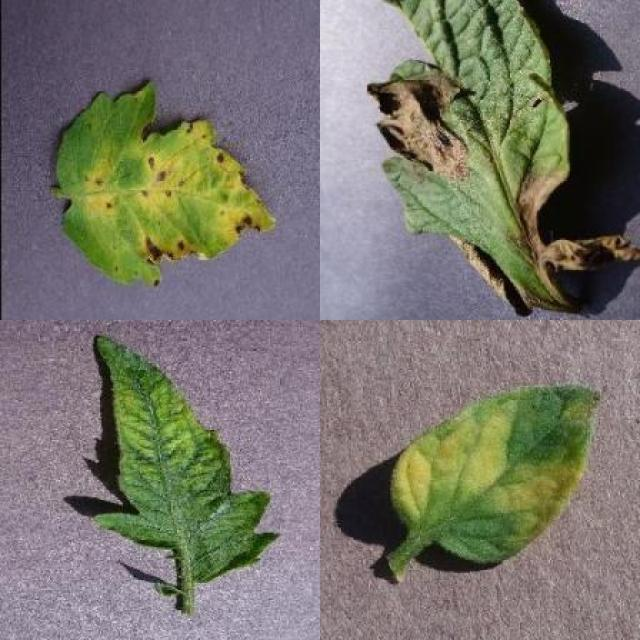Late Blight: (366, 0, 640, 317)
Leaf Mold: (390, 382, 596, 568)
Mosaic Virus: (85, 331, 281, 583)
Septoria: (54, 76, 279, 290)
